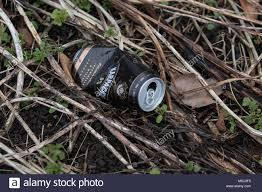can: (71, 42, 166, 113)
